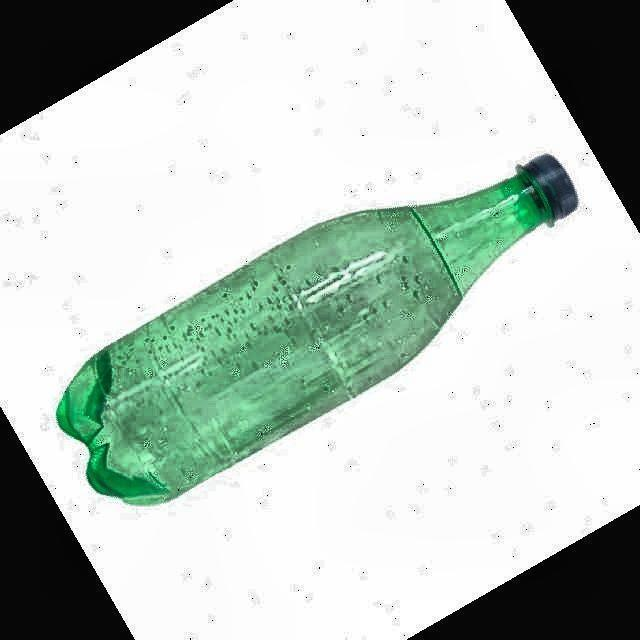plastic: (56, 155, 578, 504)
